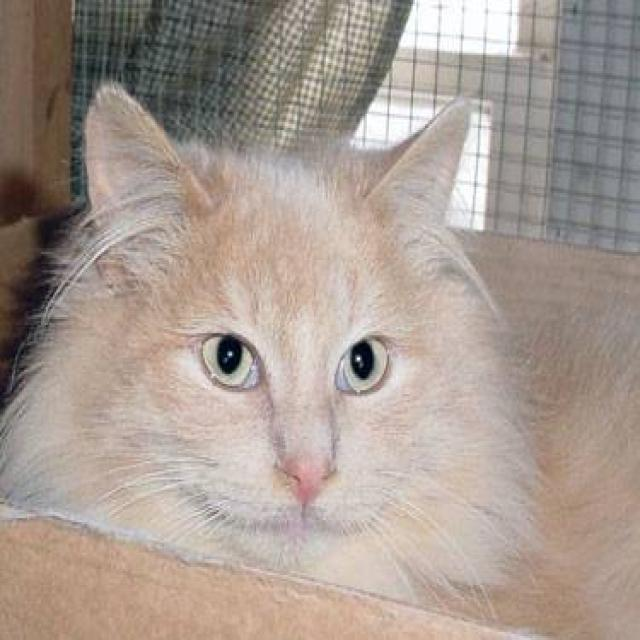cat: (0, 77, 638, 638)
